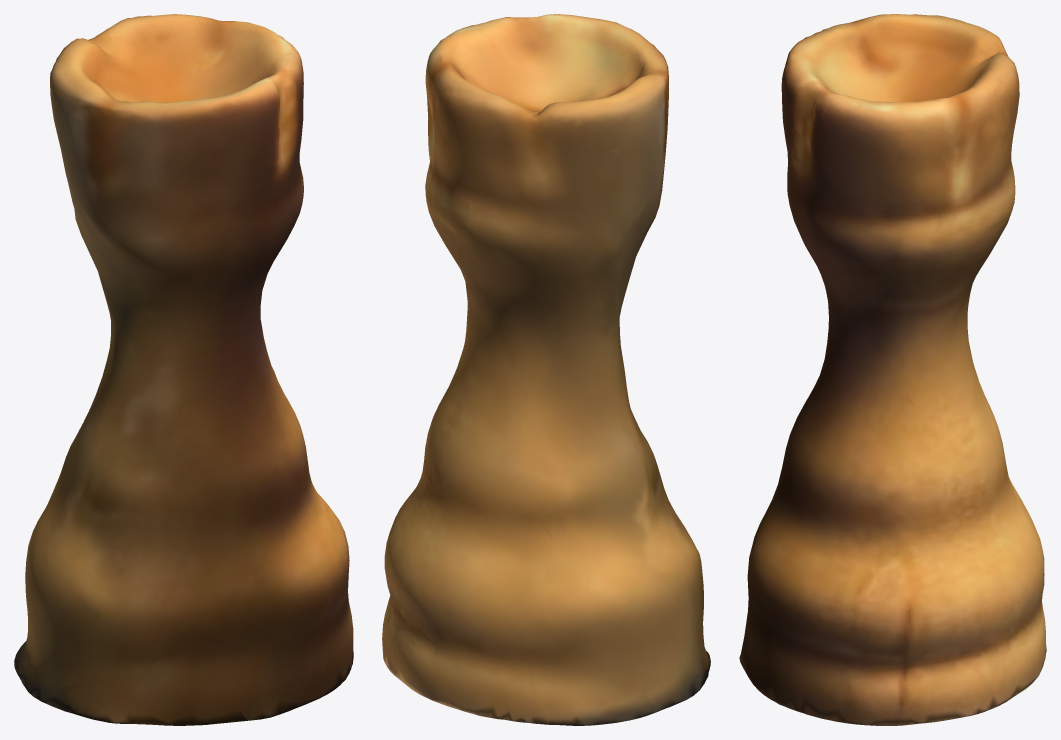
The model's file is rook2.obj.
The picture shows the model from 3 angles, left to right: view 1: azimuth 30°, elevation 25°; view 2: azimuth 150°, elevation 25°; view 3: azimuth 270°, elevation 25°; orthographic projection.
Visible parts, largest first — view 1: 3DModel; view 2: 3DModel; view 3: 3DModel.
Boxes of the visible parts, <box> form: 3DModel: <box>14,14,353,725</box>; 3DModel: <box>382,14,710,725</box>; 3DModel: <box>739,14,1046,725</box>.
Size of the model in its own units: 0.1357 by 0.2617 by 0.1223.
